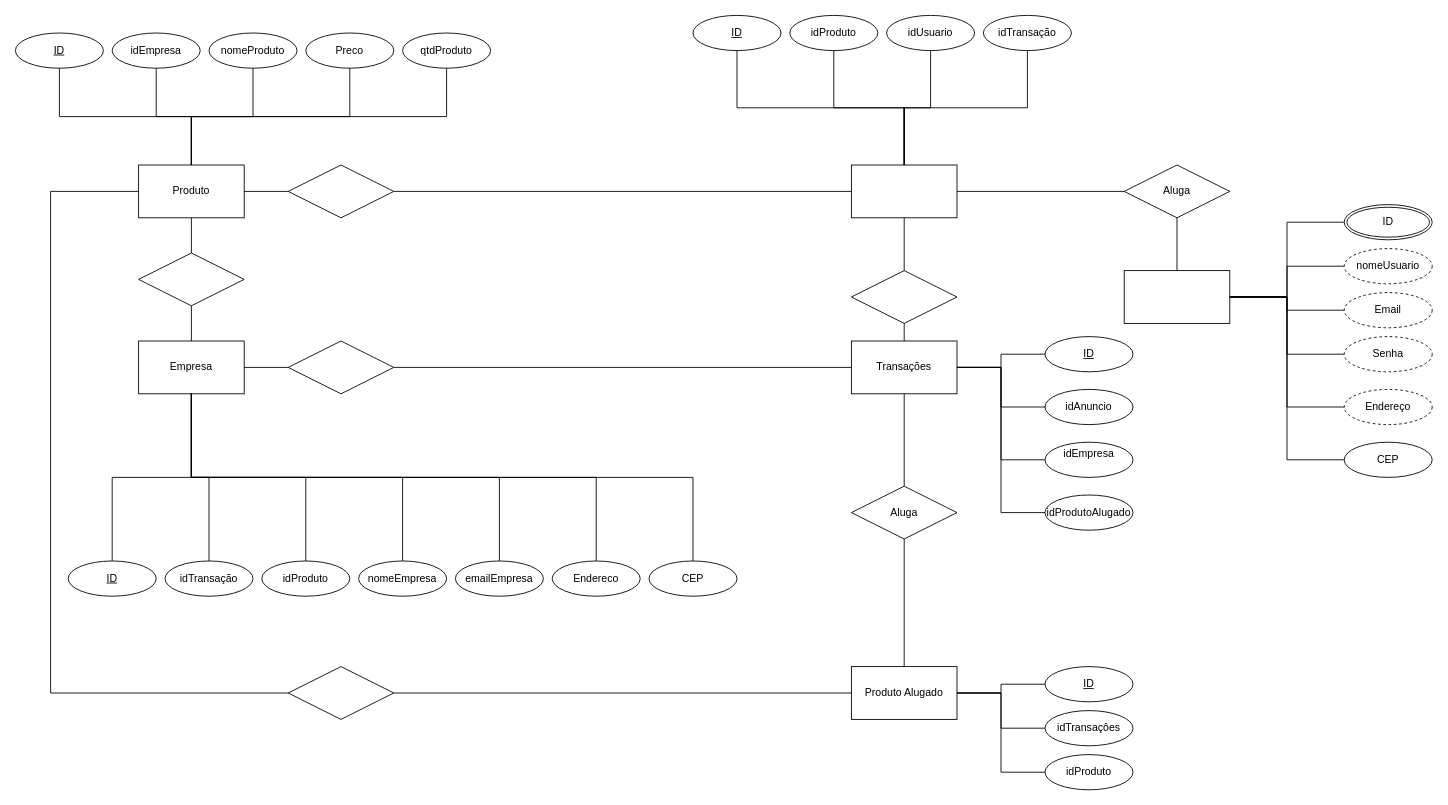
The diagram is 1448 pixels wide and 805 high, and some of its shapes have lost their labels. The shapes that lost their labels are listed below. From the top down, each one's centre as x and y in pixels, then its label:
At (340,191): "Contém".
At (904,191): "Anúncios".
At (191,279): "Fornece".
At (904,296): "Acontece".
At (1176,296): "Usuário".
At (340,367): "Recebe".
At (340,692): "Devollução".
